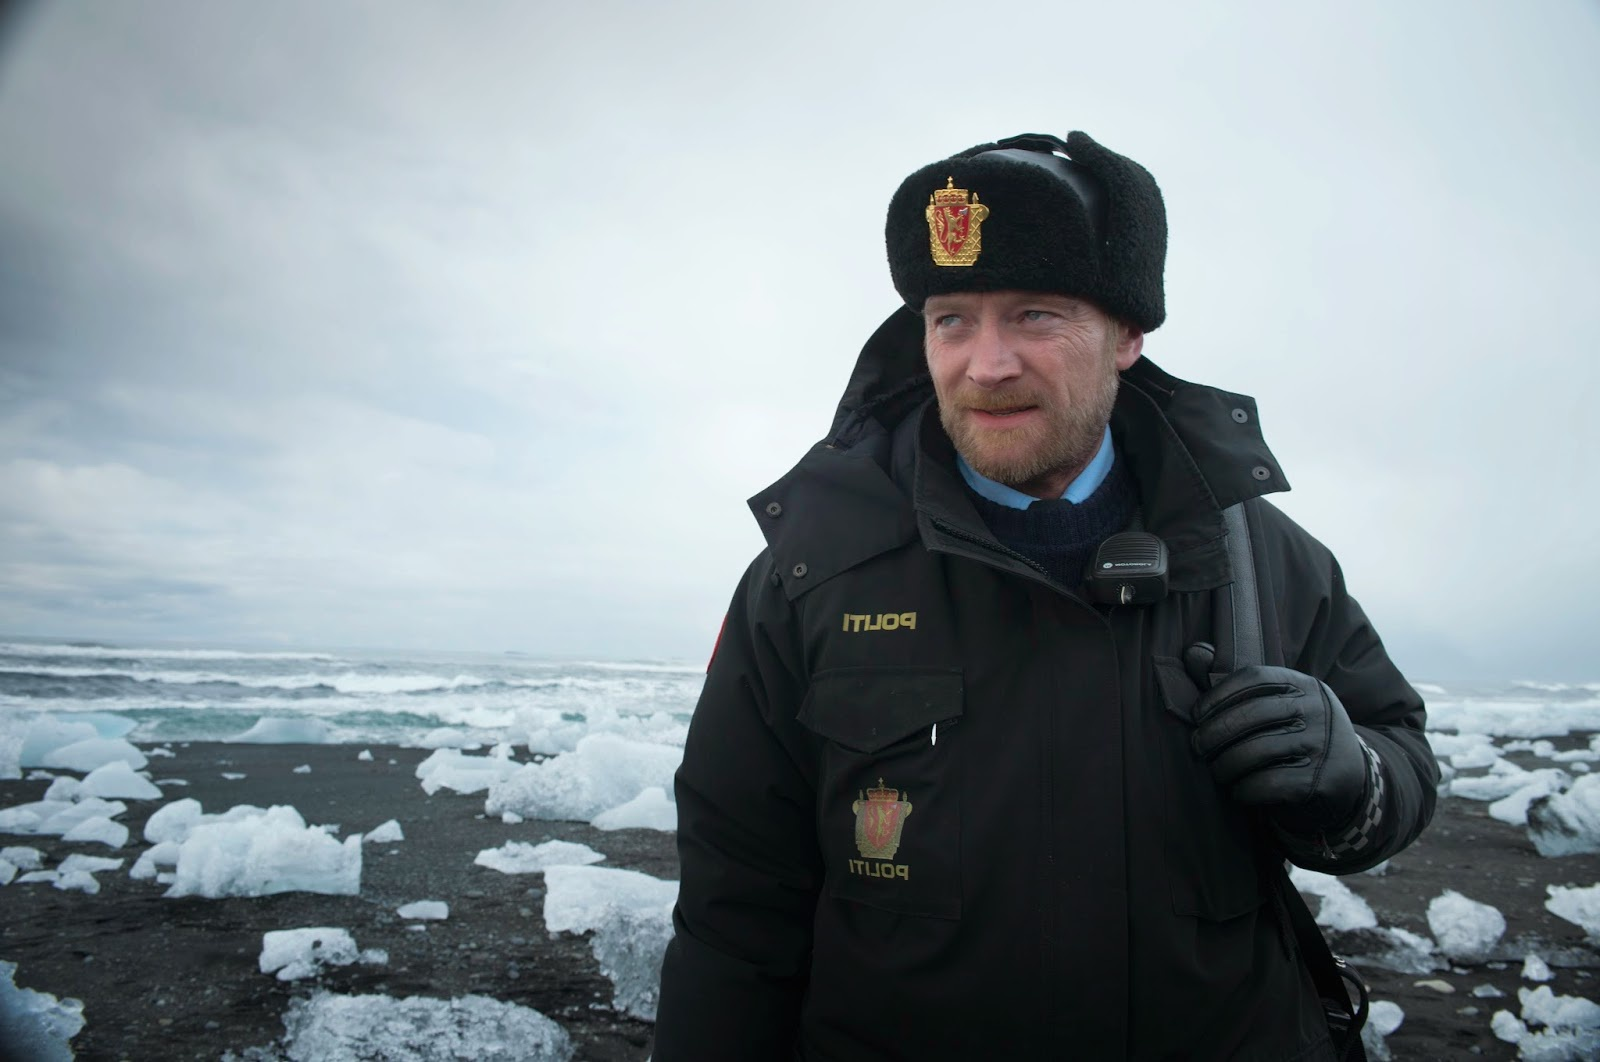bad: (885, 242, 1108, 463)
